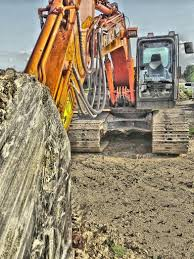excavator: (2, 2, 194, 259)
